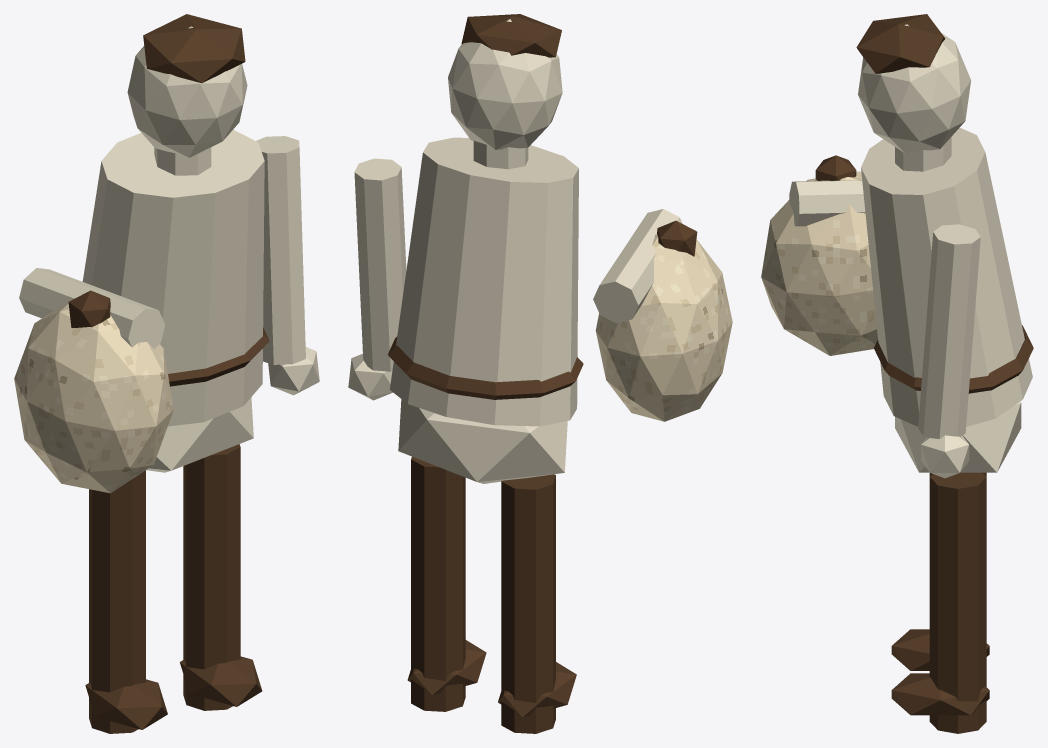
Rendered from villager_lowpoly.glb.
The picture shows the model from 3 angles, left to right: view 1: azimuth 30°, elevation 25°; view 2: azimuth 150°, elevation 25°; view 3: azimuth 270°, elevation 25°; orthographic projection. The views are drawn at different scales.
Parts seen in each view (by area): view 1: tunic, bundle, legs_0, legs_1, arms_right, head, hair, arms_left, hips, boots_0, boots_1, hand_right (+3 smaller); view 2: tunic, bundle, legs_1, legs_0, head, hips, arms_right, arms_left, belt, hair, boots_0, boots_1 (+3 smaller); view 3: tunic, legs_0, bundle, arms_right, head, hair, hips, arms_left, boots_0, belt, hand_right, boots_1 (+2 smaller).
Part boxes in pixels (x1,y1,x2,y2): tunic: (82,129,264,426); bundle: (14,302,173,493); legs_0: (183,444,240,710); legs_1: (89,470,145,733); arms_right: (256,136,305,364); head: (127,26,247,157); hair: (143,14,245,83); arms_left: (19,268,165,348); hips: (146,397,253,472); boots_0: (179,656,262,706); boots_1: (85,679,167,729); hand_right: (268,347,319,395); tunic: (390,137,578,426); bundle: (595,234,732,421); legs_1: (501,474,555,733); legs_0: (411,456,465,711); head: (448,19,562,149); hips: (398,399,567,483); arms_right: (354,158,406,371); arms_left: (593,209,682,323); belt: (388,336,583,399); hair: (461,14,561,57); boots_0: (407,640,486,695); boots_1: (498,662,576,717); tunic: (861,127,1032,426); legs_0: (929,472,986,733); bundle: (761,171,877,355); arms_right: (918,224,980,438); head: (858,24,971,153); hair: (856,14,945,73); hips: (895,401,1021,472); arms_left: (789,180,865,226); boots_0: (891,673,989,715); belt: (874,325,1033,393); hand_right: (921,435,969,478); boots_1: (891,629,989,670).
Size of what is drawn, in the model's own units: 0.8548 by 1.71 by 0.6255.
Materials: 3 (1 with a texture image).
